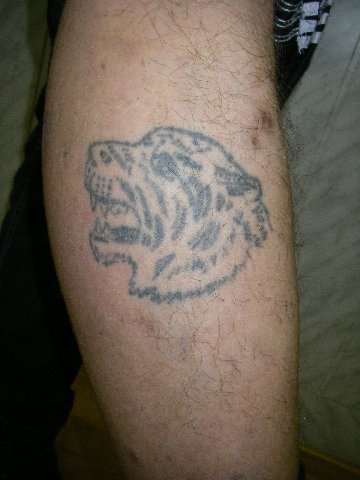tatu5_tigr: (81, 126, 273, 303)
